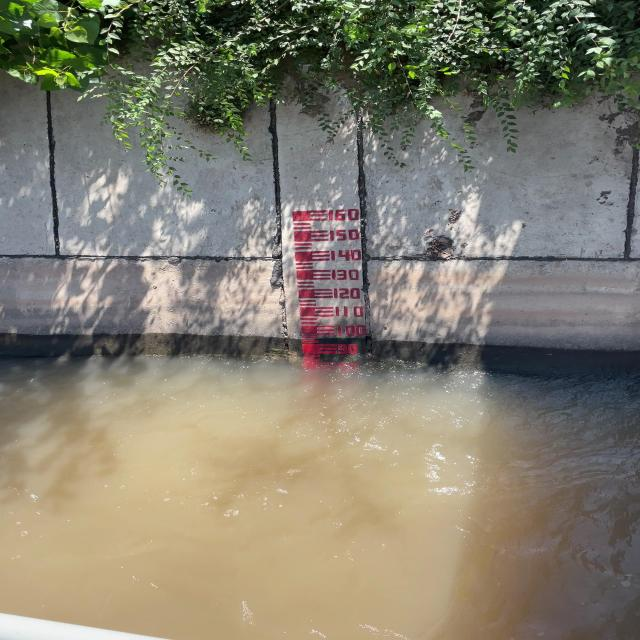ruler: (290, 206, 375, 365)
value: (324, 206, 364, 224), (333, 323, 370, 339), (332, 304, 368, 320), (329, 246, 364, 262), (326, 230, 362, 245), (331, 286, 363, 300), (330, 269, 362, 283), (336, 344, 364, 357)
